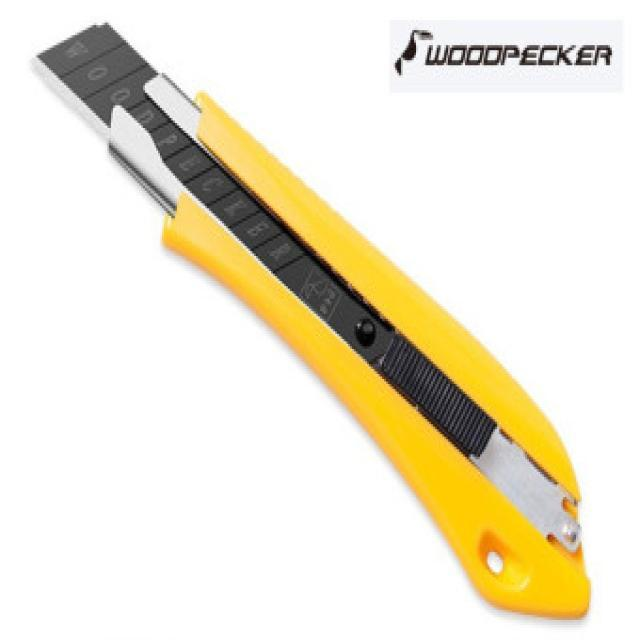cutter: (16, 18, 598, 622)
